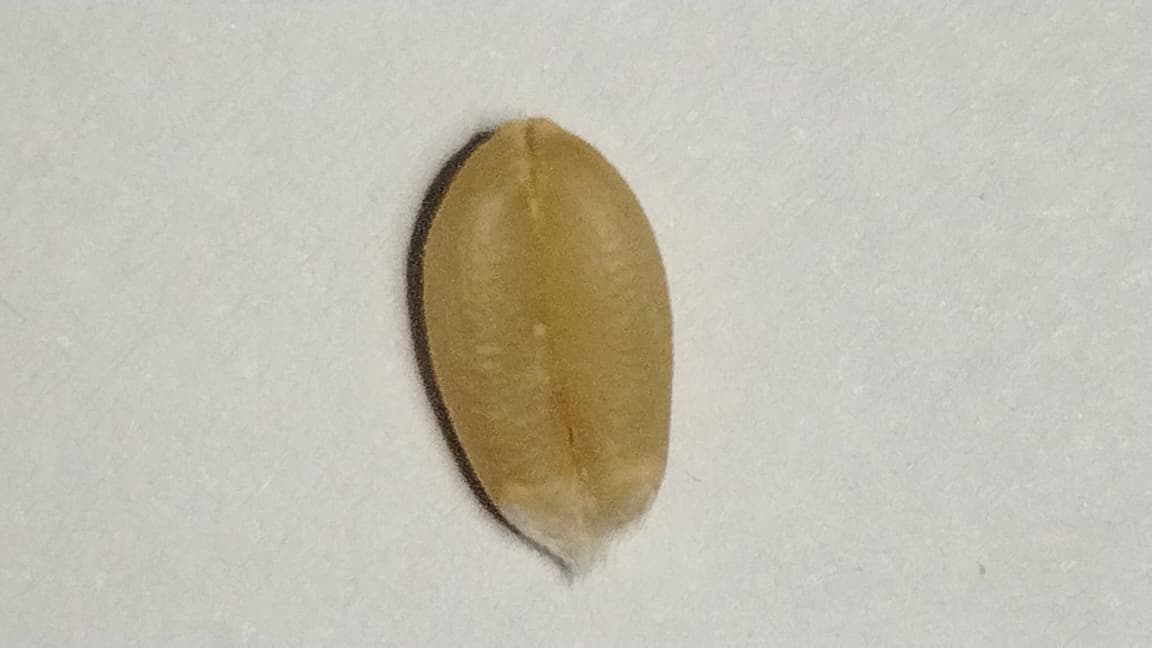healthy: (421, 120, 674, 532)
